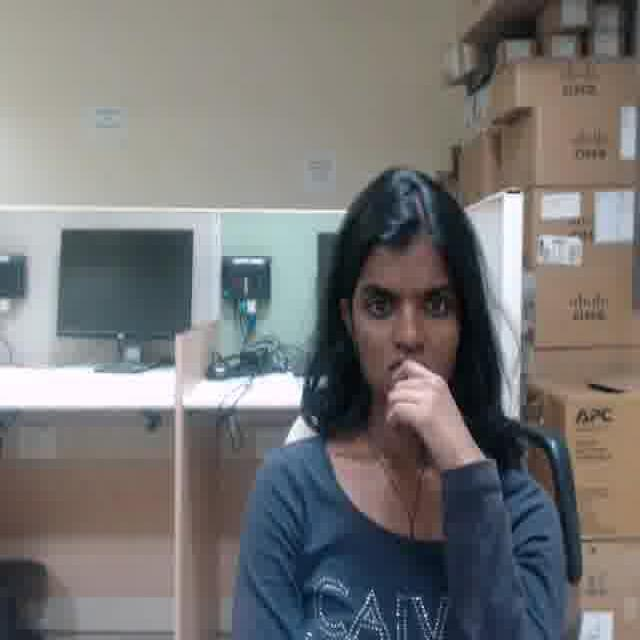Frustration: (354, 239, 457, 408)
